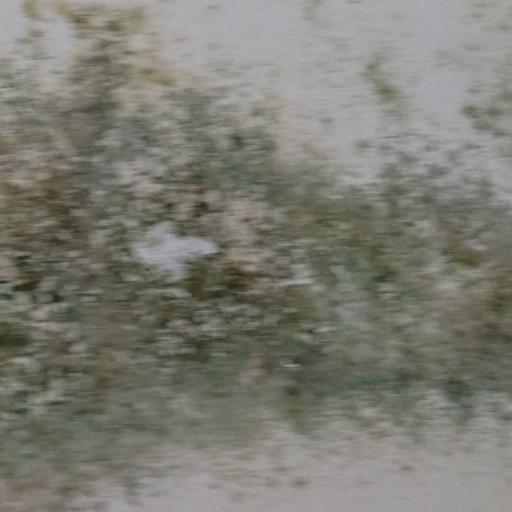algae: (0, 24, 512, 408)
